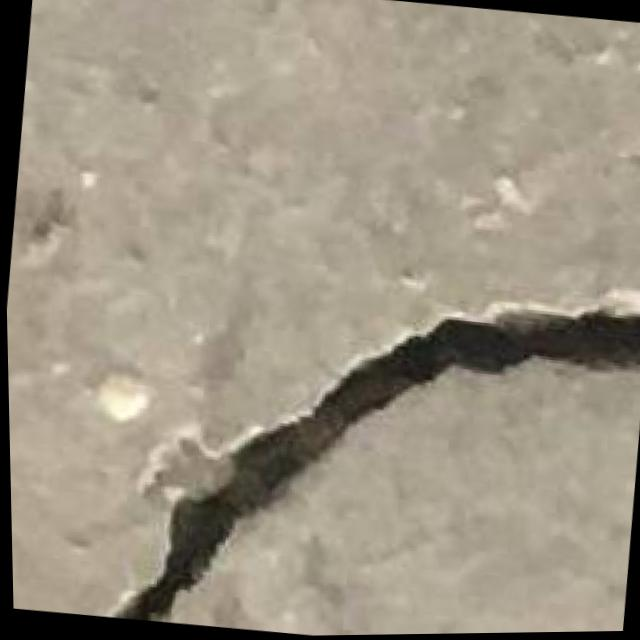Crack: (85, 222, 640, 639)
